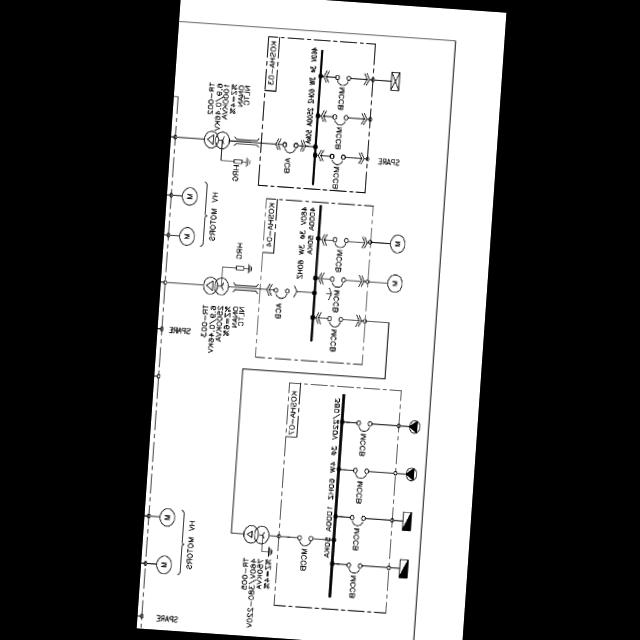GND: (244, 156, 250, 167), (246, 264, 252, 274), (266, 546, 272, 556)
MCCB: (272, 287, 290, 299), (325, 315, 343, 327), (354, 419, 372, 431), (348, 514, 366, 526), (344, 562, 362, 574), (296, 534, 314, 546), (334, 74, 351, 86), (331, 236, 348, 248), (328, 276, 345, 288), (351, 467, 368, 479), (331, 114, 347, 126), (328, 153, 345, 164), (282, 142, 296, 154)
